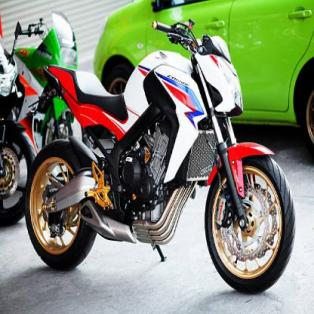Motocicleta: (24, 16, 297, 293)
